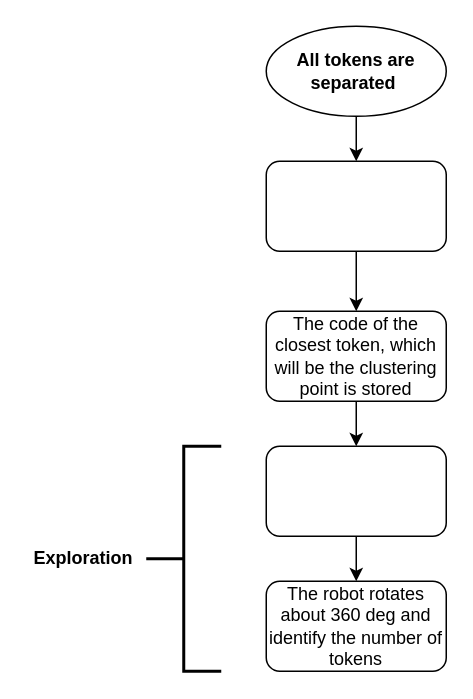
Image size: 473x699. Some labels were removed from this diagram. Here are the shapes that lost their labels. From the top down, the centre of each, then its label:
At point (355, 205): "The robot identify all the tokens in its field of view".
At point (355, 490): "The robot drive towards the center".
